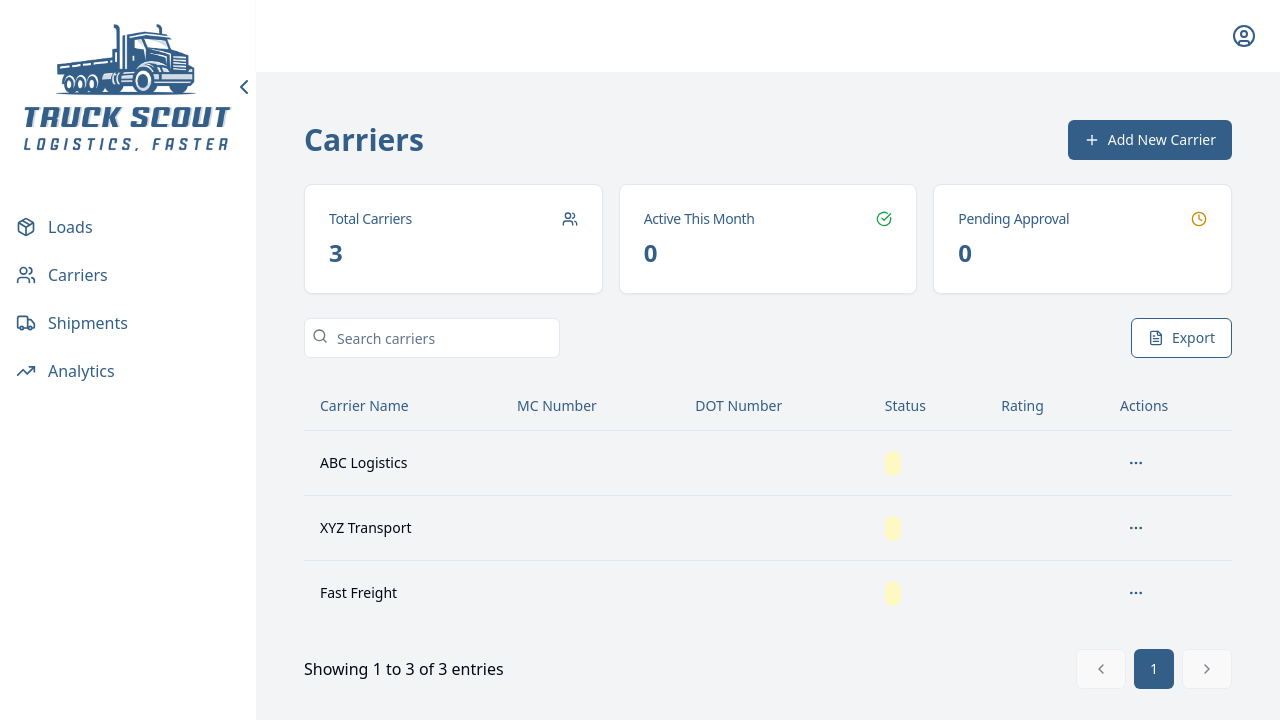
Test: Carriers Page › handles case-insensitive search
Step 1. Type "abc" into the field with test id "search-carriers" → [432, 338], box left=304, top=318, right=560, bottom=358
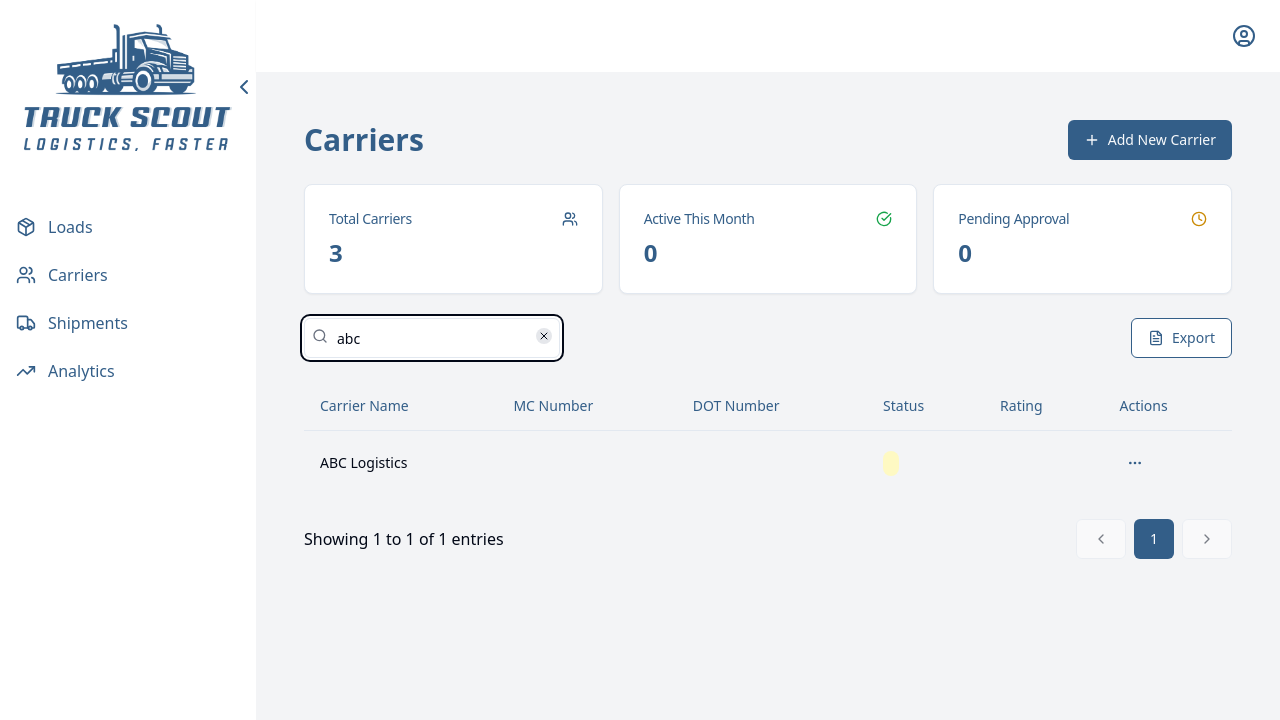
Expected: the cell with test id "carrier-row-" reads "ABC Logistics", left=320, top=453, right=407, bottom=472
Step 2. Replace the text in the field with test id "search-carriers" with "TRANSPORT" → [432, 338], box left=304, top=318, right=560, bottom=358
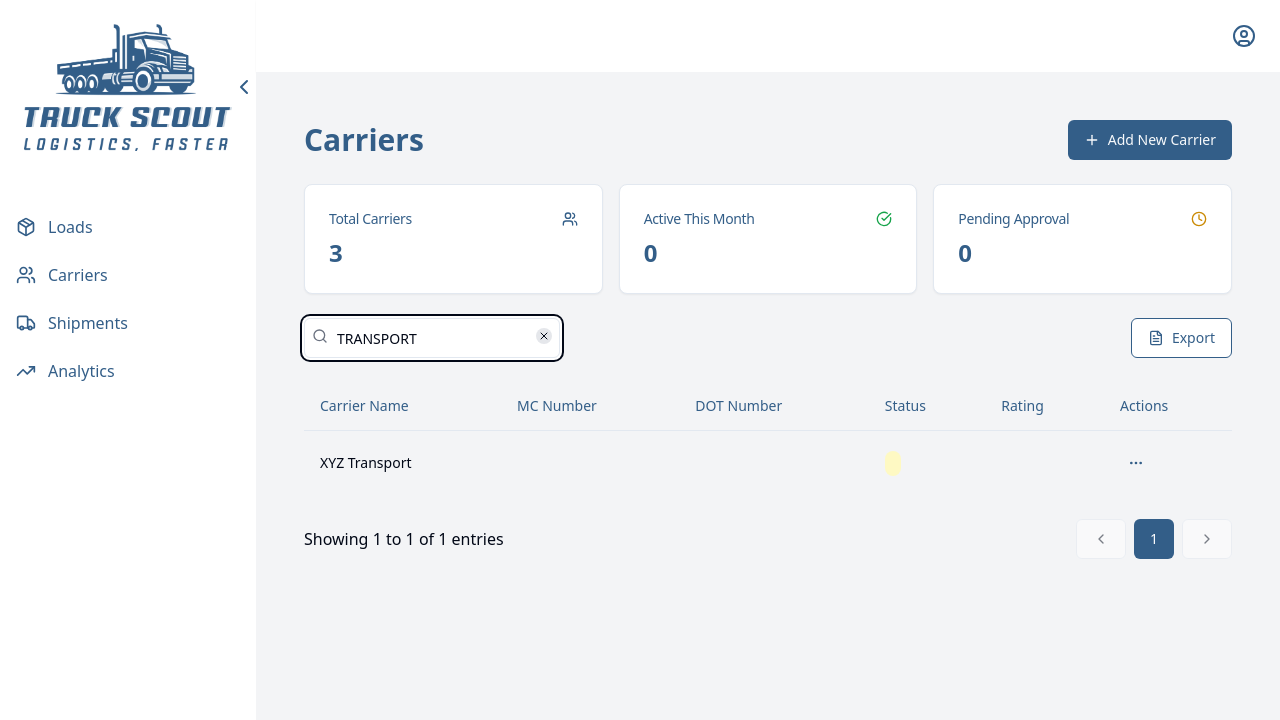
Now the cell with test id "carrier-row-" reads "XYZ Transport", box left=320, top=453, right=412, bottom=472
